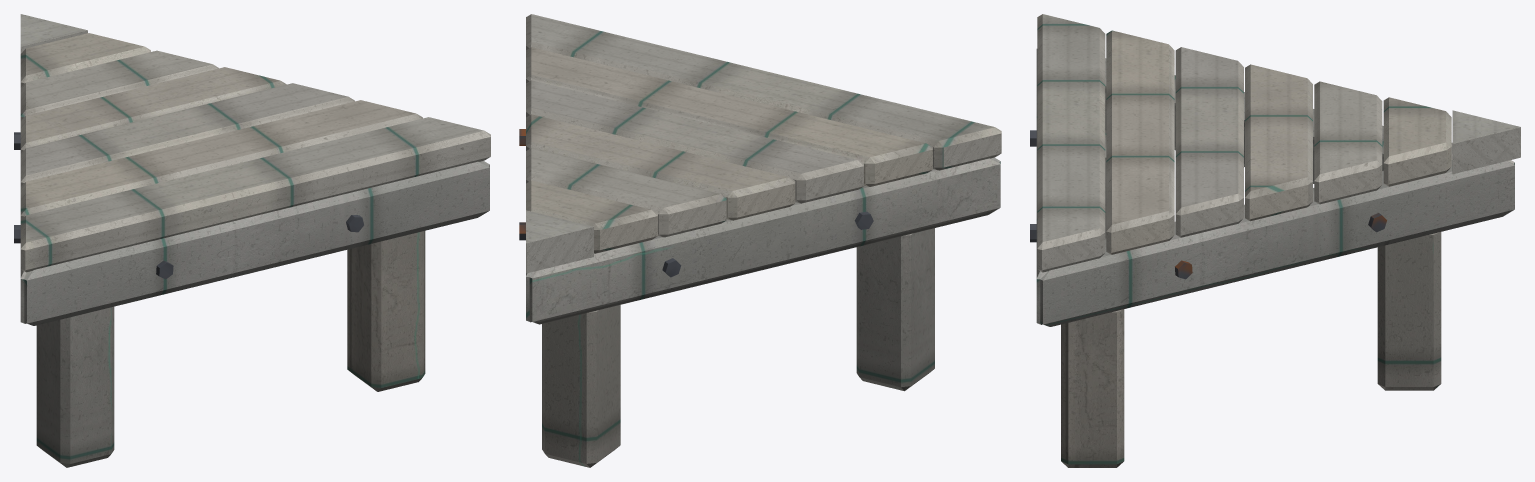
File: ucgen_temel.glb
3 views of the same model, side by side, from view 1: azimuth 30°, elevation 25°; view 2: azimuth 150°, elevation 25°; view 3: azimuth 270°, elevation 25° (orthographic).
Parts seen in each view (by area): view 1: ucgen_temel; view 2: ucgen_temel; view 3: ucgen_temel.
Boxes of the visible parts, <box> form: ucgen_temel: <box>14,14,490,467</box>; ucgen_temel: <box>519,14,1001,467</box>; ucgen_temel: <box>1030,14,1520,467</box>.
Bounding box in the file's own units: 2.97 × 1.5 × 2.63.
Materials: 1 (1 with a texture image).
